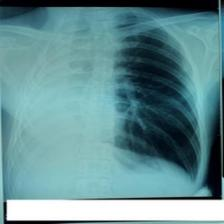tuberculosis: (4, 6, 206, 197)
